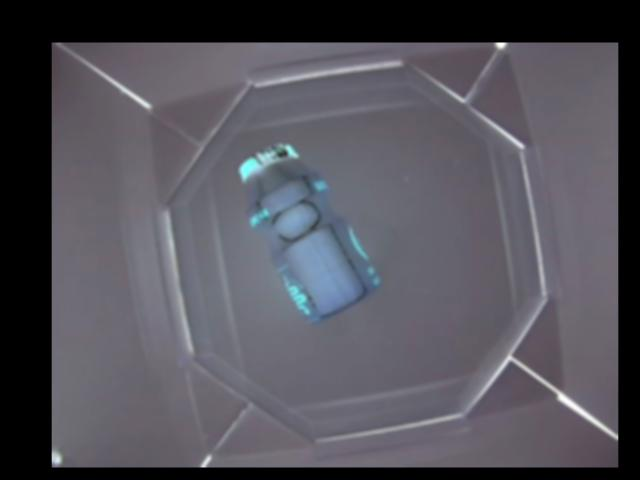Bottle: (233, 144, 381, 325)
